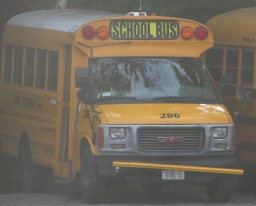bus: (1, 5, 248, 197)
